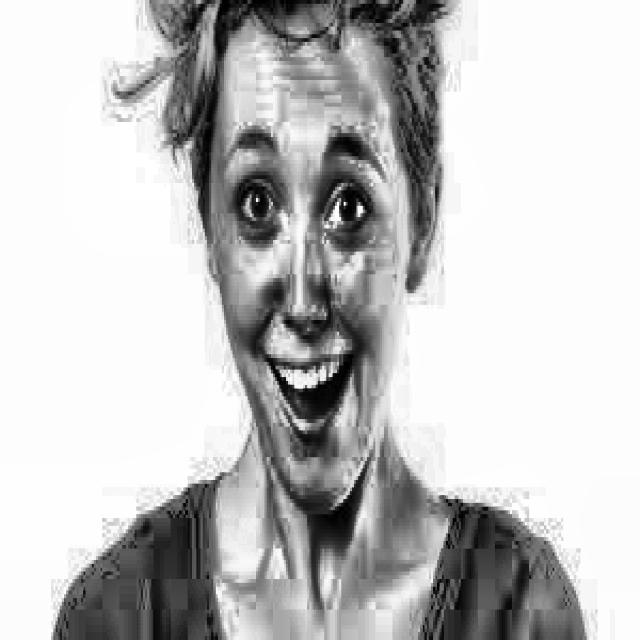surprise: (139, 0, 474, 523)
